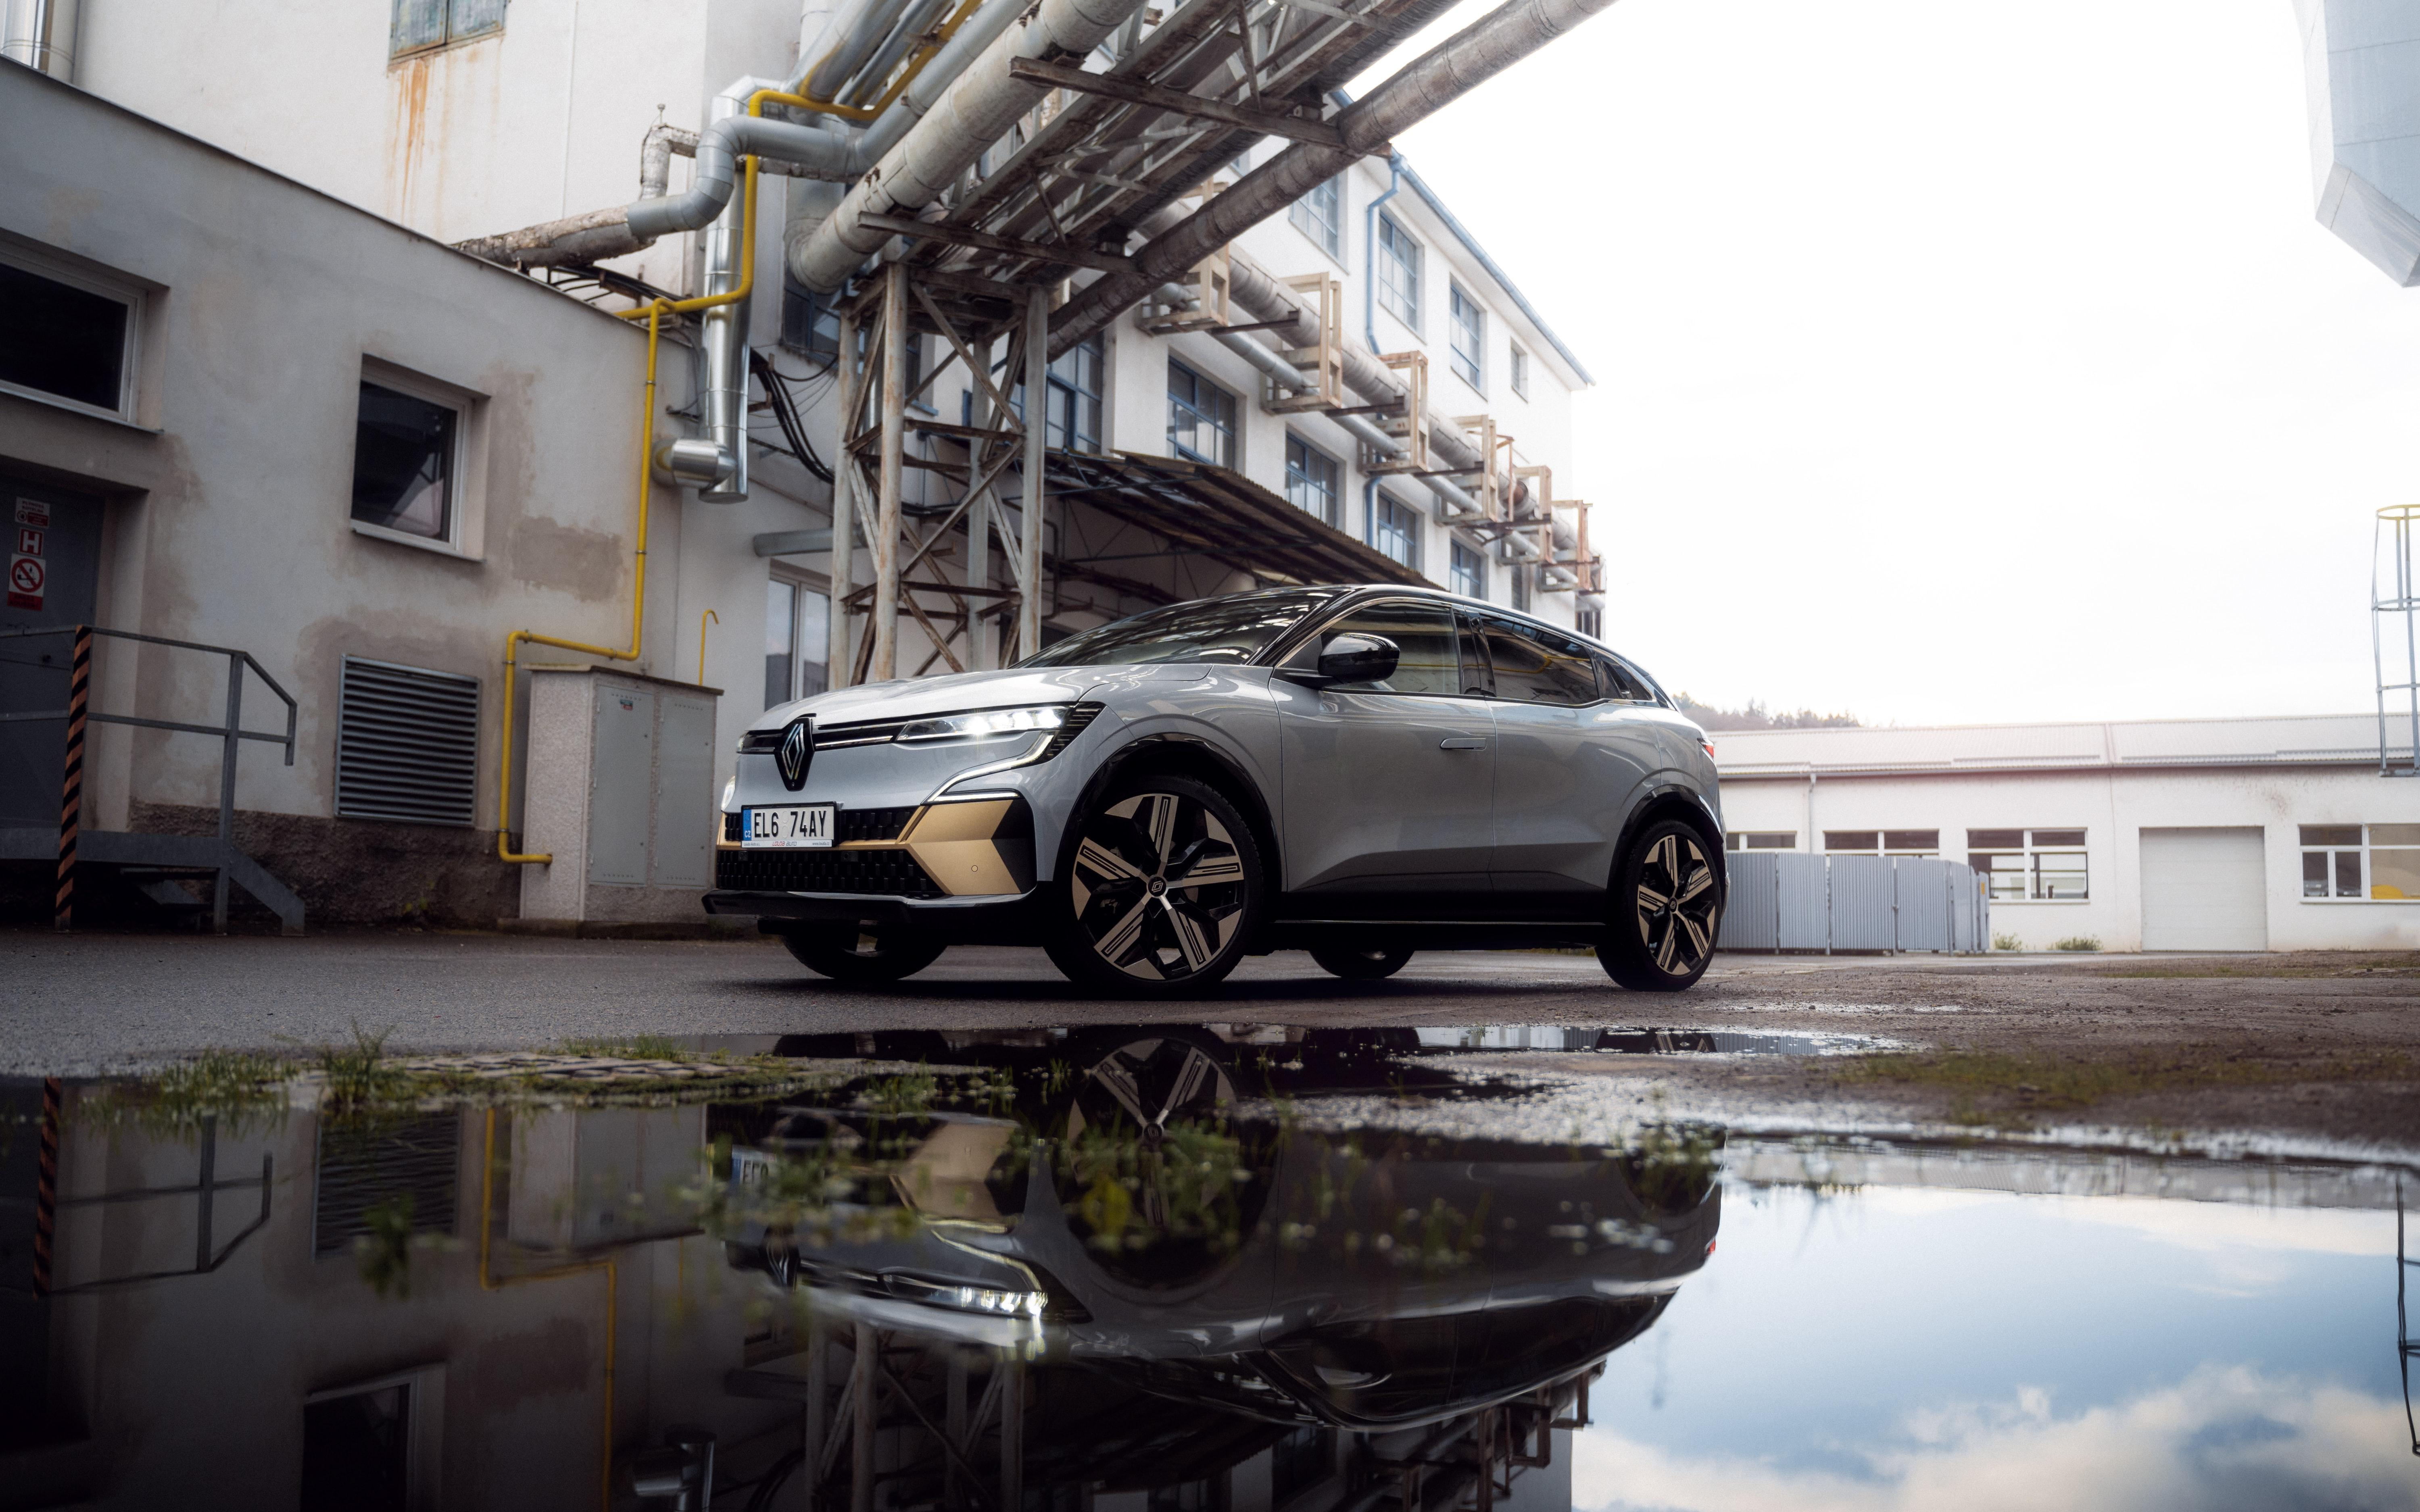Renault: (775, 707, 826, 796)
